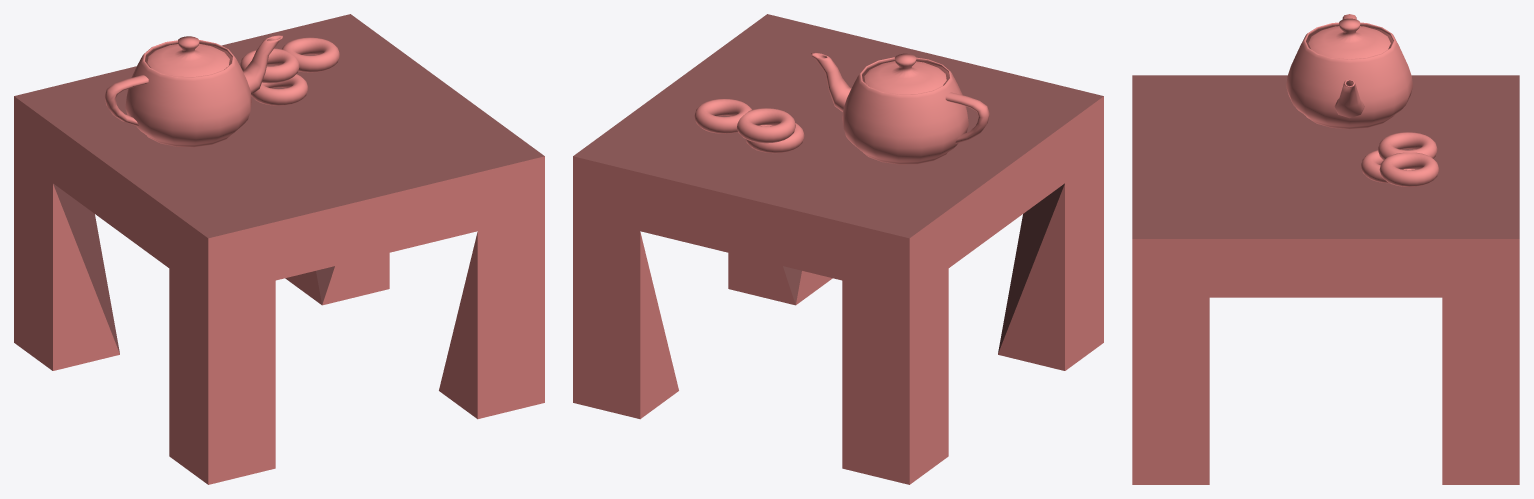
File: Dummy_table.FBX
The picture shows the model from 3 angles, left to right: view 1: azimuth 30°, elevation 25°; view 2: azimuth 150°, elevation 25°; view 3: azimuth 270°, elevation 25°; orthographic projection.
Parts seen in each view (by area): view 1: Dummy_table; view 2: Dummy_table; view 3: Dummy_table.
Part boxes in pixels (left/top/right/bottom): Dummy_table: left=14, top=14, right=544, bottom=484; Dummy_table: left=573, top=14, right=1103, bottom=484; Dummy_table: left=1132, top=14, right=1519, bottom=484.
Bounding box in the file's own units: 60 × 58.57 × 60.
